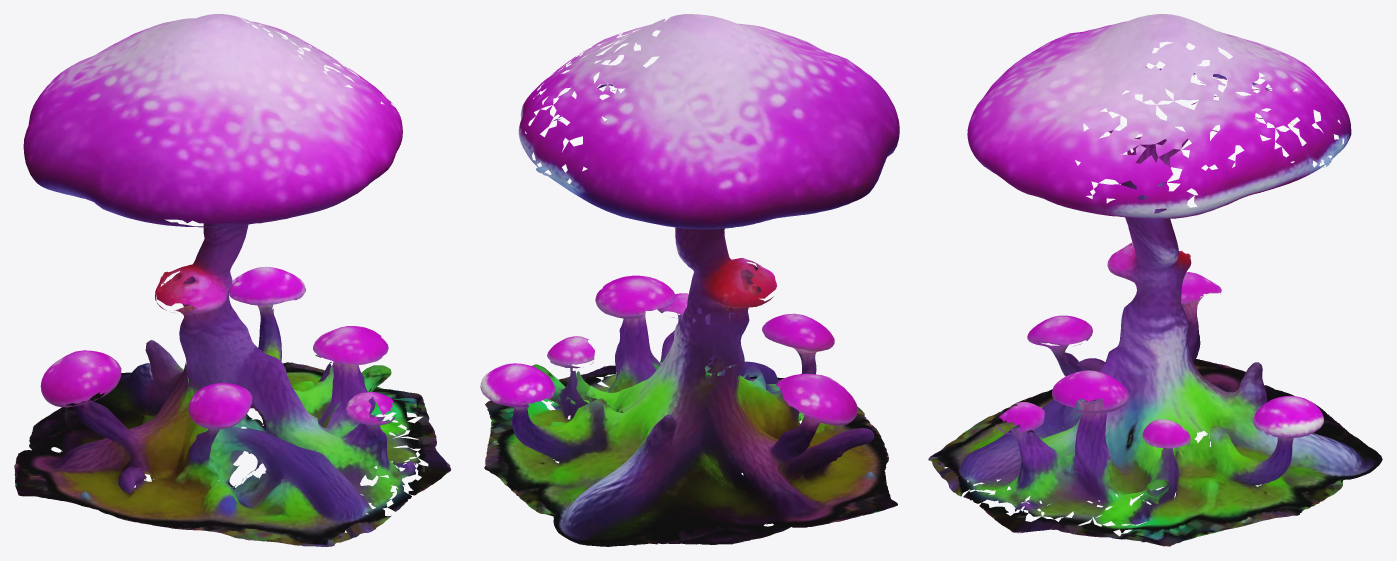
Rendered from prop_fungus.glb.
3 views of the same model, side by side, from view 1: azimuth 30°, elevation 25°; view 2: azimuth 150°, elevation 25°; view 3: azimuth 270°, elevation 25° (orthographic). The views are drawn at different scales.
Visible parts, largest first — view 1: geometry_0.221; view 2: geometry_0.221; view 3: geometry_0.221.
Part boxes in pixels (left/top/right/bottom): geometry_0.221: left=14, top=14, right=451, bottom=546; geometry_0.221: left=480, top=14, right=899, bottom=546; geometry_0.221: left=928, top=14, right=1382, bottom=546.
Bounding box in the file's own units: 1 × 1.06 × 0.9812.
1 material, 1 textured.
